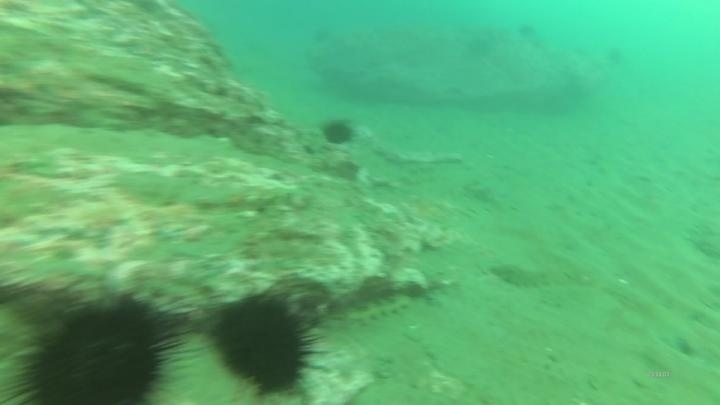echinus: (9, 285, 190, 405), (207, 288, 323, 400), (318, 116, 358, 149)
holothurian: (342, 291, 416, 329)
